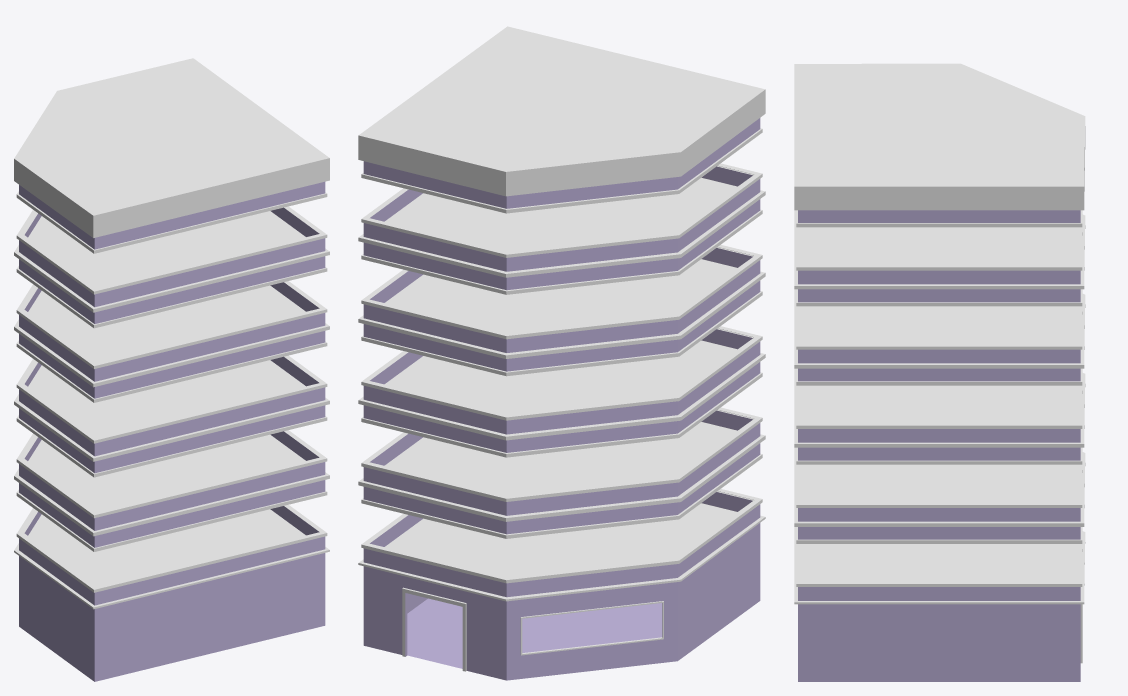
File: Bld_C_high_L2_B.fbx
3 views of the same model, side by side, from view 1: azimuth 30°, elevation 25°; view 2: azimuth 150°, elevation 25°; view 3: azimuth 270°, elevation 25° (orthographic). The views are drawn at different scales.
Parts seen in each view (by area): view 1: Bld_C_high_L2_B_LOD0; view 2: Bld_C_high_L2_B_LOD0; view 3: Bld_C_high_L2_B_LOD0.
Boxes of the visible parts, box(x1,y1,x2,y2) form: Bld_C_high_L2_B_LOD0: box(14, 58, 329, 681); Bld_C_high_L2_B_LOD0: box(358, 26, 765, 680); Bld_C_high_L2_B_LOD0: box(794, 63, 1085, 681).
Size of what is drawn, in the model's own units: 1300 by 3000 by 1427.
1 material, 1 textured.
